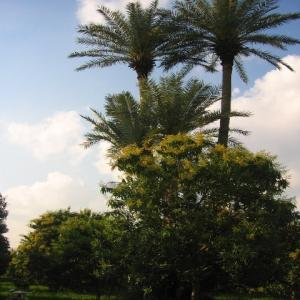palm tree: (156, 0, 300, 150)
